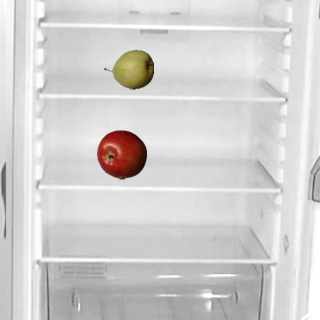Apple Braeburn: (96, 129, 146, 179)
Pear: (103, 44, 153, 94)
